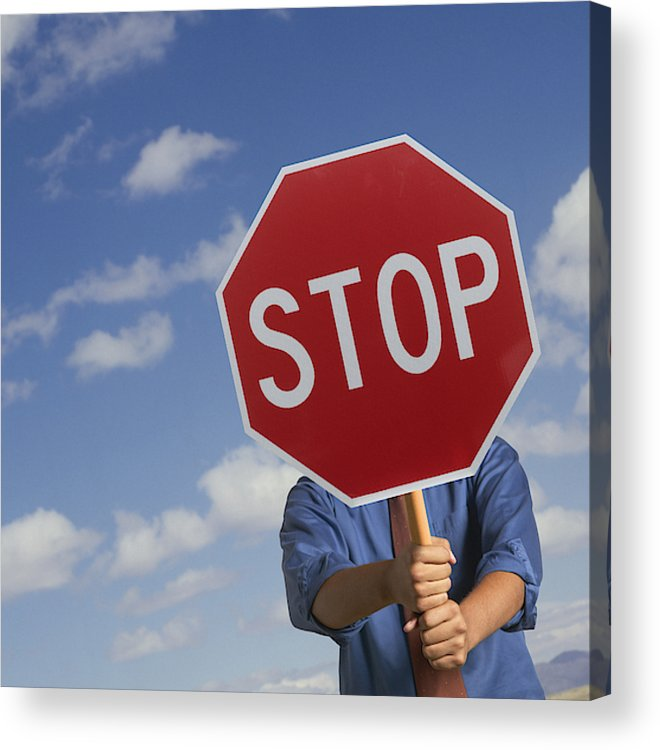stop: (207, 118, 549, 497)
